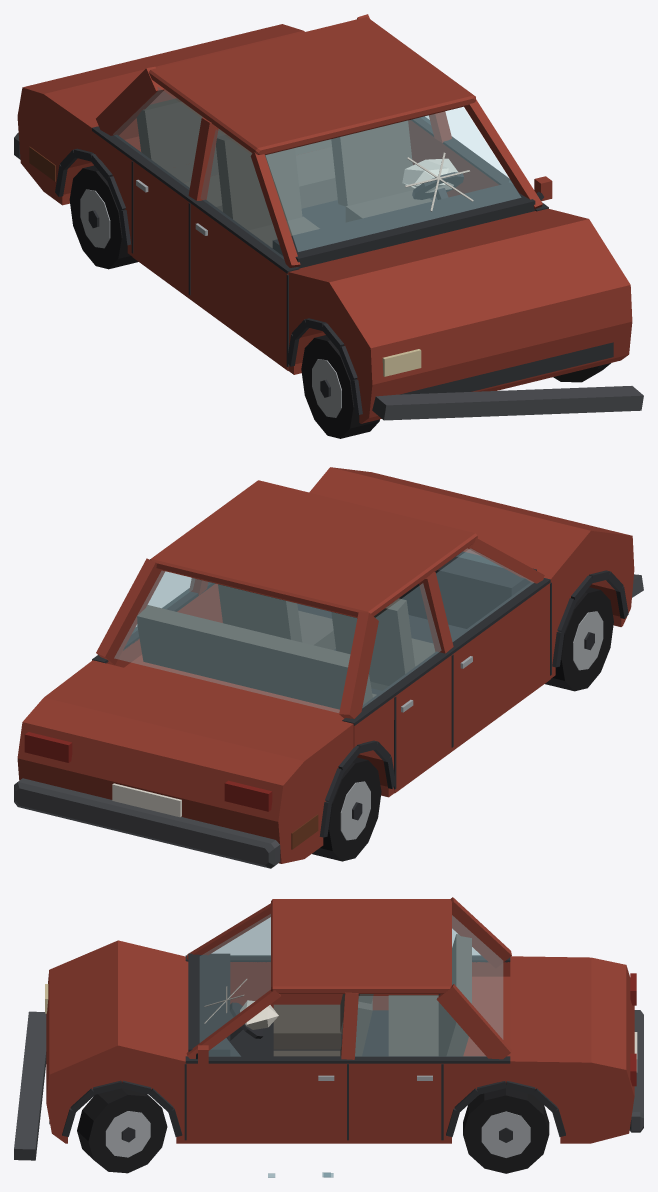
File: SM_Borgo_Car_Wreck_Red.glb
The picture shows the model from 3 angles, top to bottom: view 1: azimuth 30°, elevation 25°; view 2: azimuth 150°, elevation 25°; view 3: azimuth 270°, elevation 25°; orthographic projection. The views are drawn at different scales.
Parts seen in each view (by area): view 1: SM_Borgo_Car_Wreck_Red; view 2: SM_Borgo_Car_Wreck_Red; view 3: SM_Borgo_Car_Wreck_Red.
Boxes of the visible parts, x1=… form: SM_Borgo_Car_Wreck_Red: x1=14, y1=14, x2=643, y2=438; SM_Borgo_Car_Wreck_Red: x1=14, y1=467, x2=643, y2=868; SM_Borgo_Car_Wreck_Red: x1=14, y1=897, x2=643, y2=1177.
Size of the model in its own units: 1.98 by 1.47 by 4.66.
Materials: 2 (2 with a texture image).
